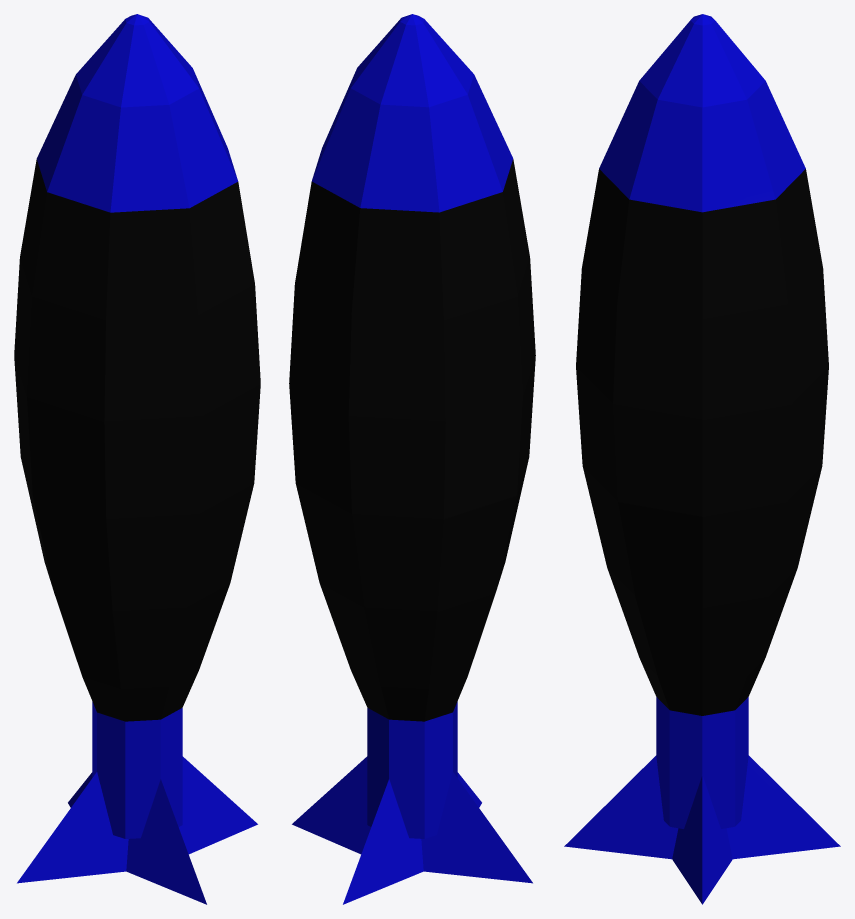
The model's file is Mortar_Projectile_Water.fbx.
3 renders of one model, left to right at view 1: azimuth 30°, elevation 25°; view 2: azimuth 150°, elevation 25°; view 3: azimuth 270°, elevation 25°, orthographic.
Parts seen in each view (by area): view 1: Circle; view 2: Circle; view 3: Circle.
Part boxes in pixels (box(x1,y1,x2,y2)): Circle: box(14, 14, 260, 904); Circle: box(289, 14, 535, 904); Circle: box(564, 14, 840, 904).
Bounding box in the file's own units: 210 × 696 × 210.
Materials: 1 (1 with a texture image).
